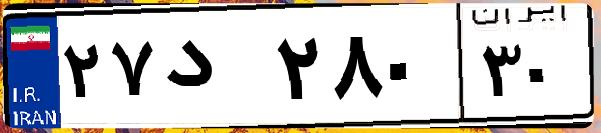0: (385, 28, 445, 110), (525, 38, 570, 115)
2: (270, 28, 330, 110), (57, 26, 110, 100)
3: (475, 38, 525, 113)
7: (110, 28, 158, 98)
8: (330, 28, 385, 110)
د: (158, 20, 270, 120)
